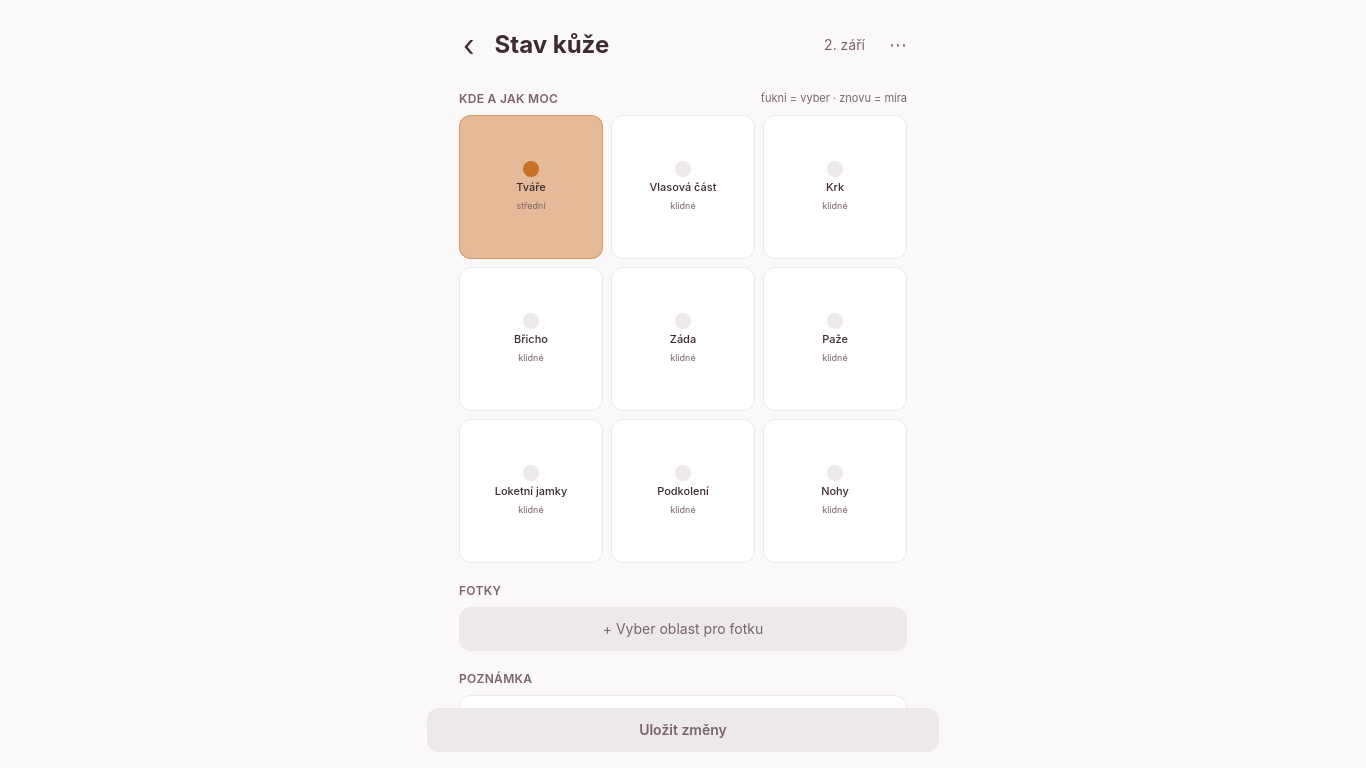
Scenario: skin/+page.svelte — region grid › remove failure leaves the sheet closed and does not navigate
Expected: the text box showing "itchy" is shown, [459,694,907,762]
Click the button with test id "skin-overflow": (898, 45) [881,36,915,54]
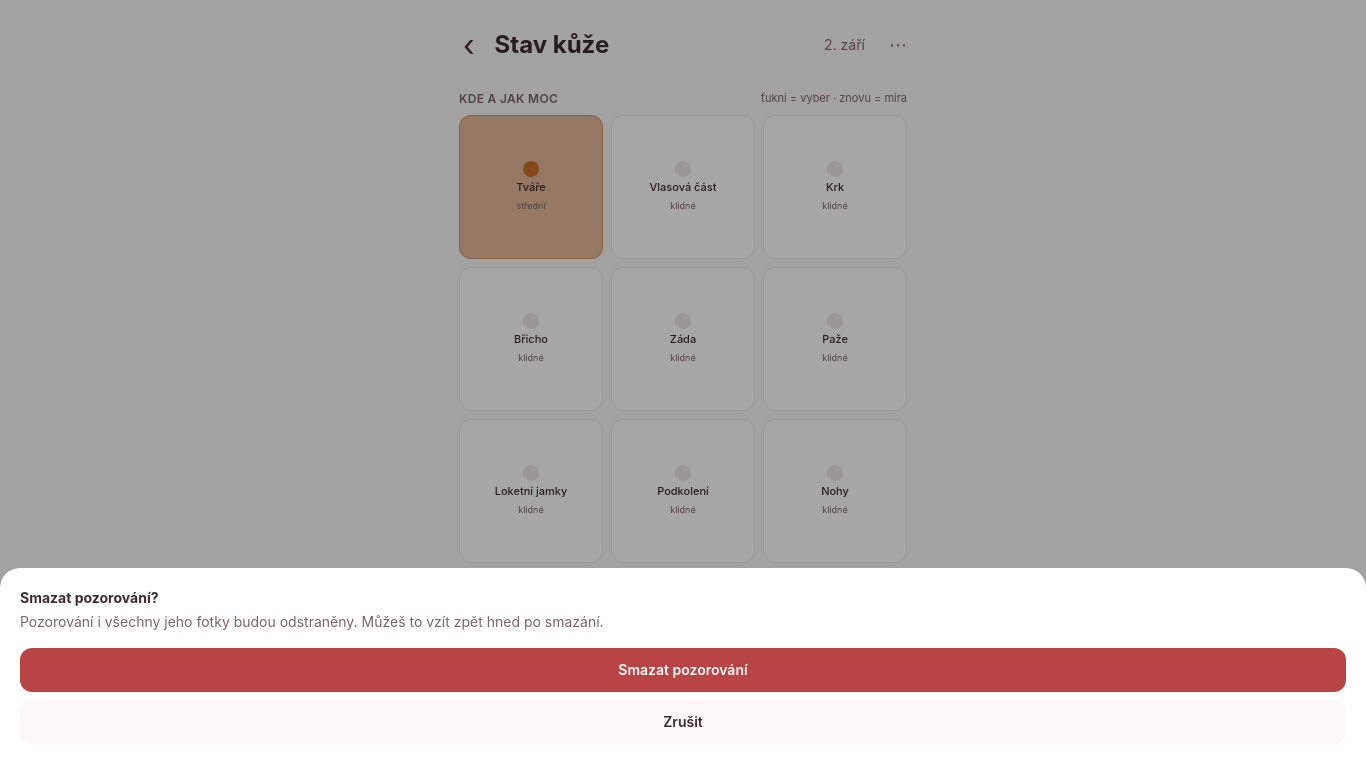
Click the button "Smazat pozorování": (683, 670) [20,648,1346,692]
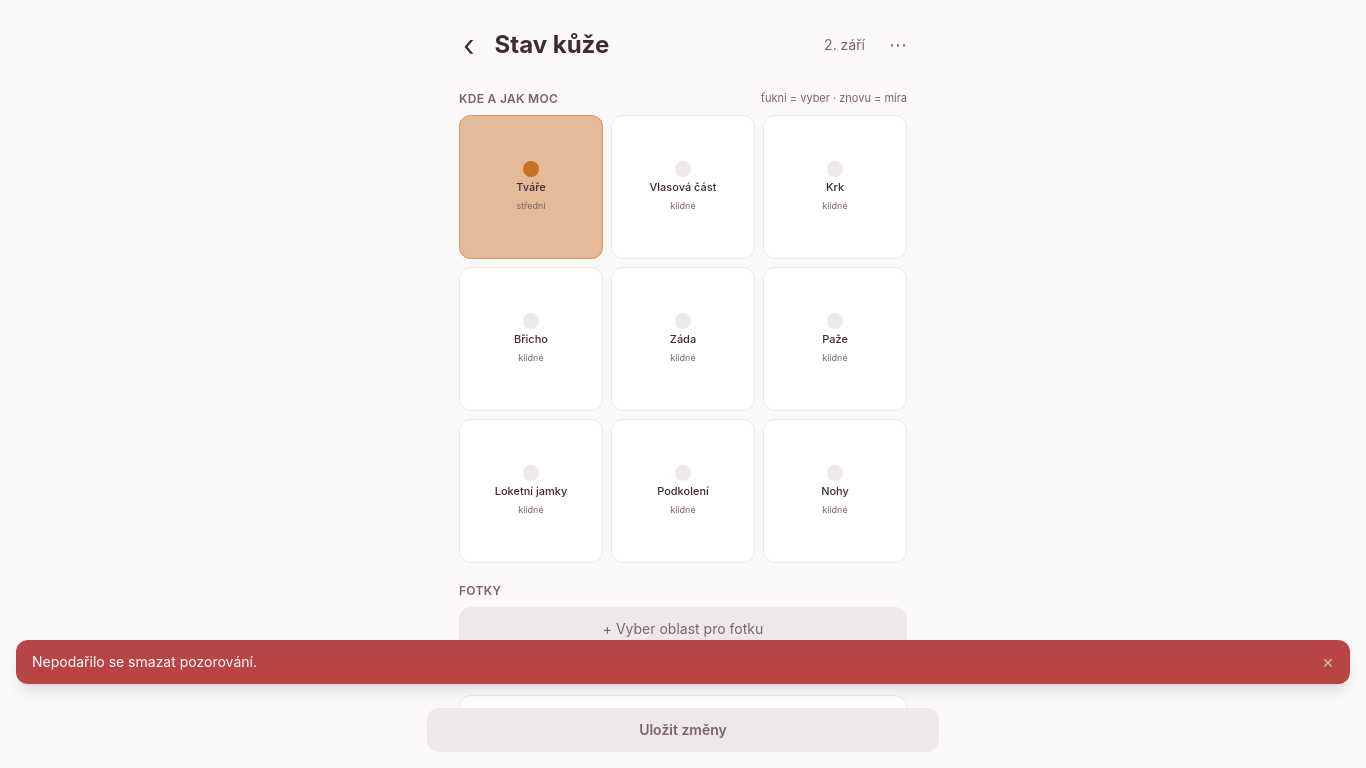
Result: the text "Nepodařilo se smazat pozorování." is shown at [32,652,257,672]
